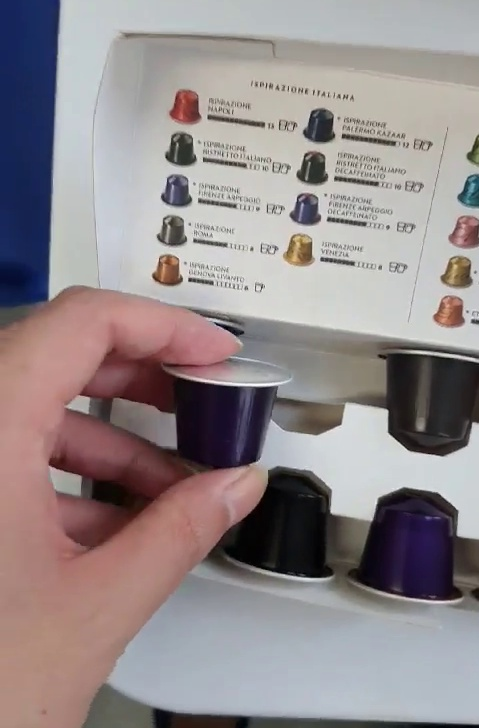capsule_2: (161, 352, 293, 467)
